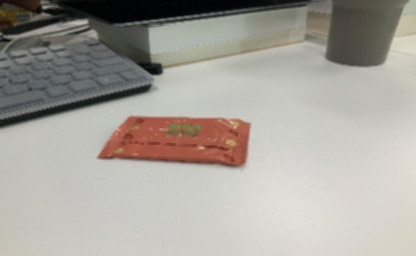pota: (95, 110, 253, 169)
